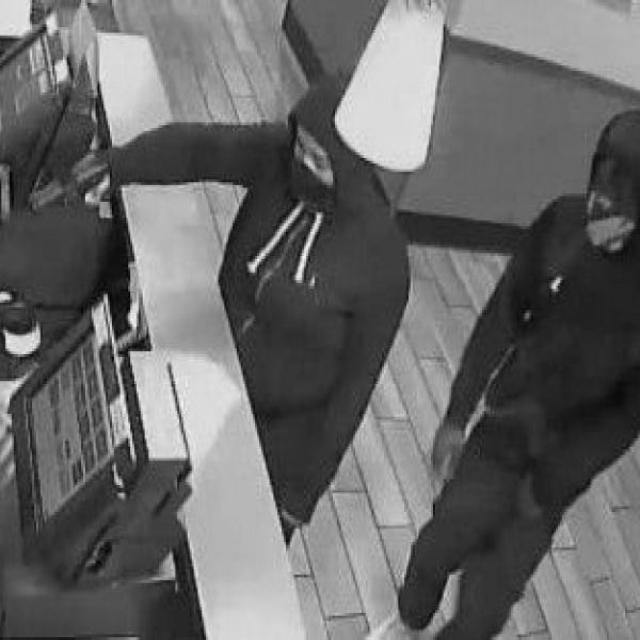gun: (30, 158, 109, 217)
